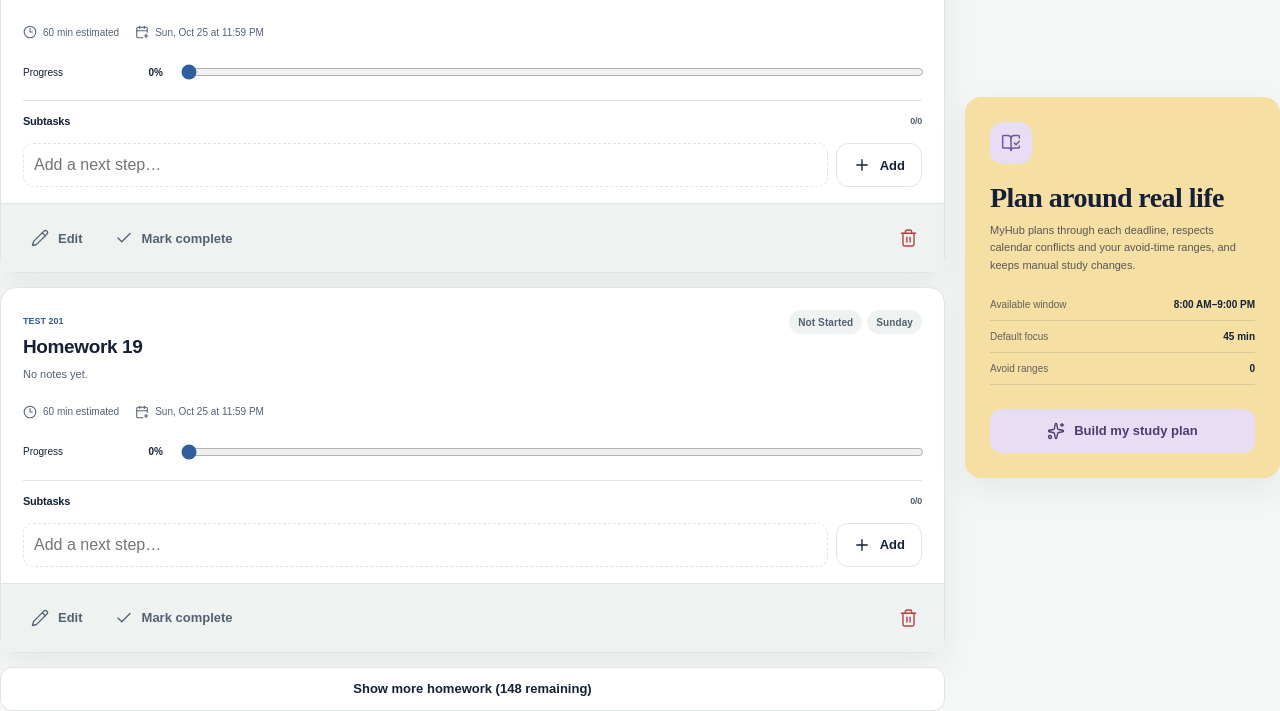
Test: School loading › bounds initial rendering while keeping every assignment accessible
This screenshot has width=1280, height=711.
(page scrolled)
Expected: the heading "Homework 20" is not shown
Click the button "Show more homework (148 remaining)" at (472, 689), box [0,667,945,710]
(page scrolled)
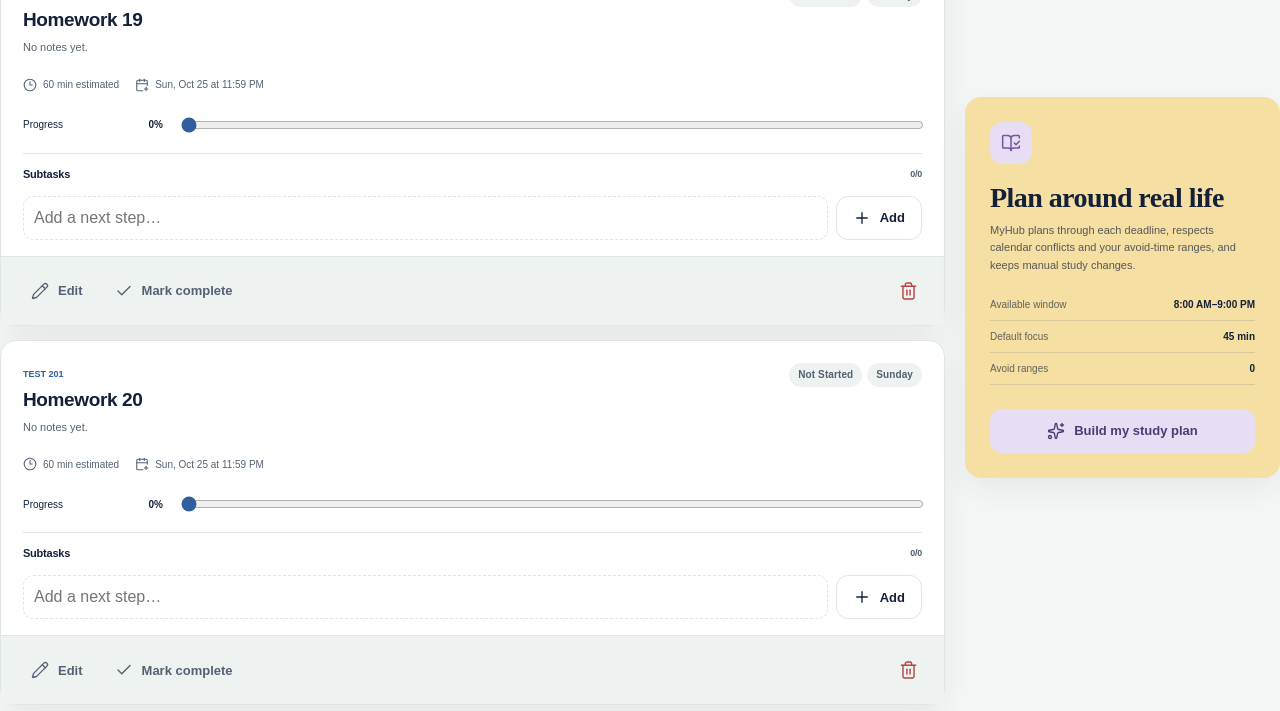
Result: the heading "Homework 20" is shown at [23,389,142,411]
